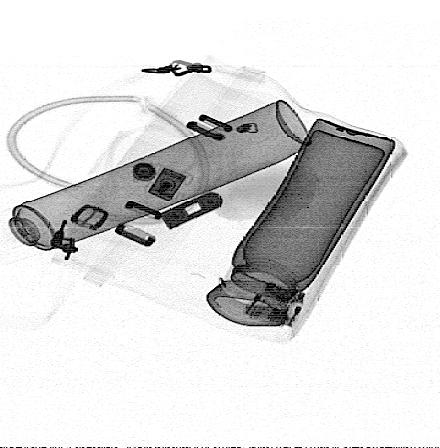Sprayer: (3, 100, 312, 263)
